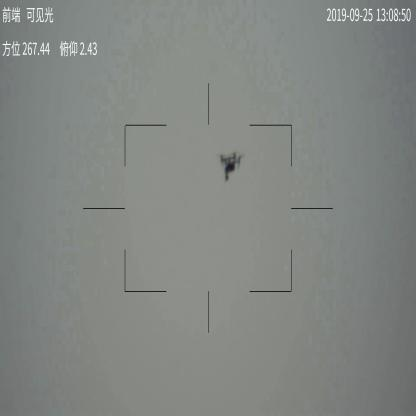uav: (216, 152, 245, 182)
